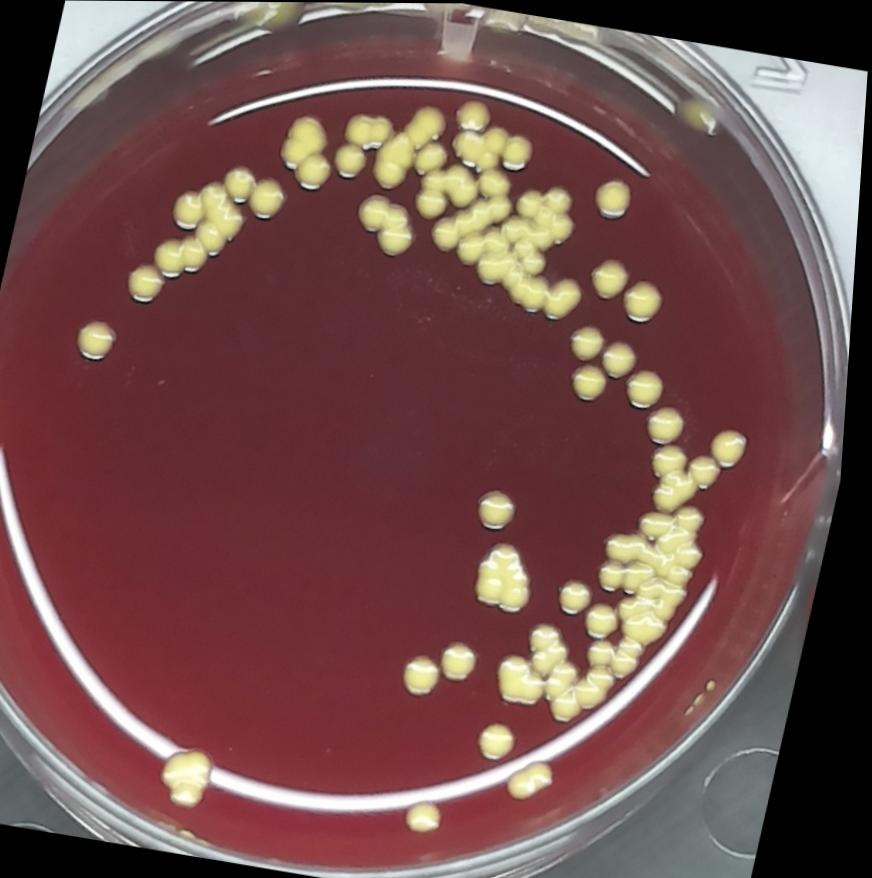mluteus: (369, 94, 451, 195), (155, 199, 246, 283), (470, 533, 552, 615), (619, 568, 698, 645), (159, 732, 232, 812), (348, 188, 424, 259), (495, 647, 561, 710), (274, 109, 335, 173), (451, 115, 514, 169), (513, 747, 571, 805), (473, 481, 532, 536), (69, 312, 126, 367), (653, 463, 708, 518), (404, 647, 458, 700), (709, 420, 763, 473), (406, 790, 462, 841), (340, 106, 399, 154), (479, 713, 532, 766), (618, 274, 672, 326), (243, 171, 296, 221), (645, 397, 698, 447), (445, 632, 495, 684), (543, 271, 592, 324), (124, 259, 175, 309), (624, 362, 673, 412), (598, 333, 647, 382), (592, 172, 641, 221), (440, 159, 486, 211), (168, 183, 216, 232), (587, 252, 634, 302), (557, 569, 605, 617), (569, 357, 617, 404), (293, 148, 342, 194), (327, 136, 374, 182), (474, 244, 520, 291), (566, 318, 613, 363), (604, 526, 656, 566), (648, 436, 698, 477), (689, 447, 734, 492), (451, 93, 497, 136), (588, 597, 633, 640), (637, 502, 682, 545), (517, 270, 557, 318), (552, 681, 596, 724), (410, 133, 453, 177), (548, 657, 590, 702), (425, 213, 468, 256), (217, 160, 259, 203), (677, 497, 721, 538), (501, 127, 541, 172), (452, 225, 492, 269), (542, 209, 582, 250), (590, 629, 632, 668), (539, 178, 581, 217), (476, 162, 519, 200), (413, 183, 456, 221), (496, 209, 536, 249), (531, 616, 570, 657), (598, 553, 640, 591), (675, 533, 716, 571), (513, 182, 550, 218), (593, 657, 630, 689), (520, 244, 553, 276)
